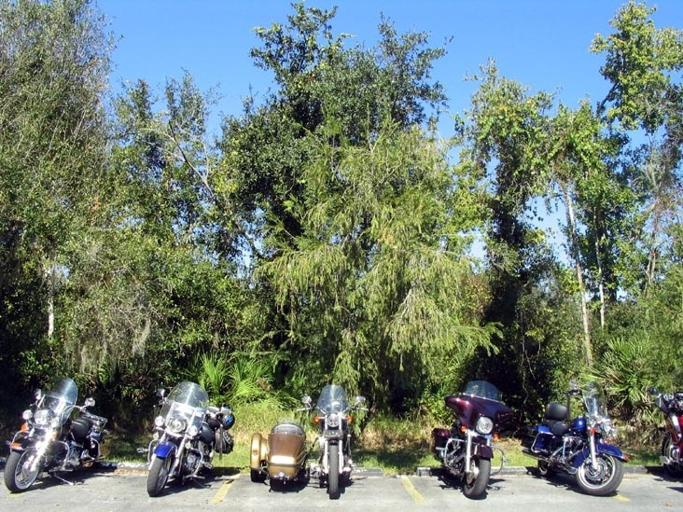non-vehicle: (250, 383, 366, 497), (3, 376, 112, 494), (522, 381, 629, 495), (143, 379, 237, 496), (430, 380, 514, 499), (654, 385, 683, 483)
